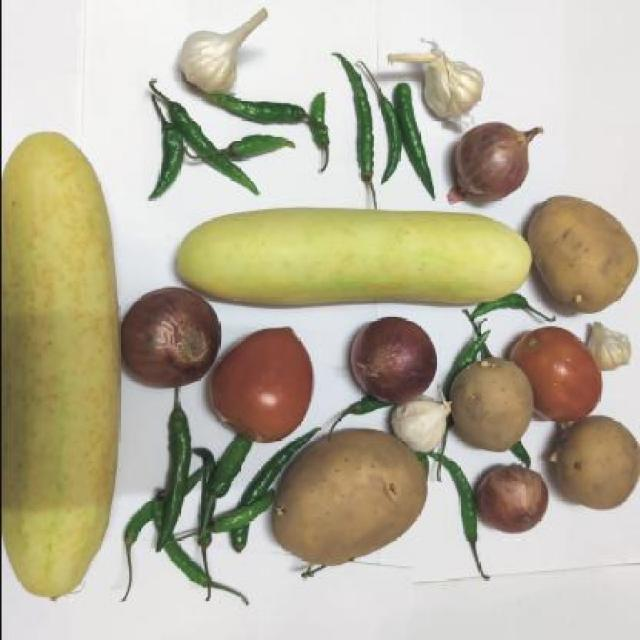Pepper: (121, 448, 272, 618), (140, 85, 337, 202), (334, 69, 441, 197)
garlic: (387, 26, 485, 119), (177, 6, 269, 102), (387, 395, 453, 453), (582, 322, 635, 375)
onion: (439, 115, 547, 214), (120, 288, 218, 390), (337, 314, 441, 409), (472, 458, 551, 534)
potato: (271, 432, 423, 576), (522, 188, 636, 320), (446, 353, 536, 458), (554, 417, 640, 520)
tomato: (203, 316, 329, 449), (512, 323, 600, 428)
